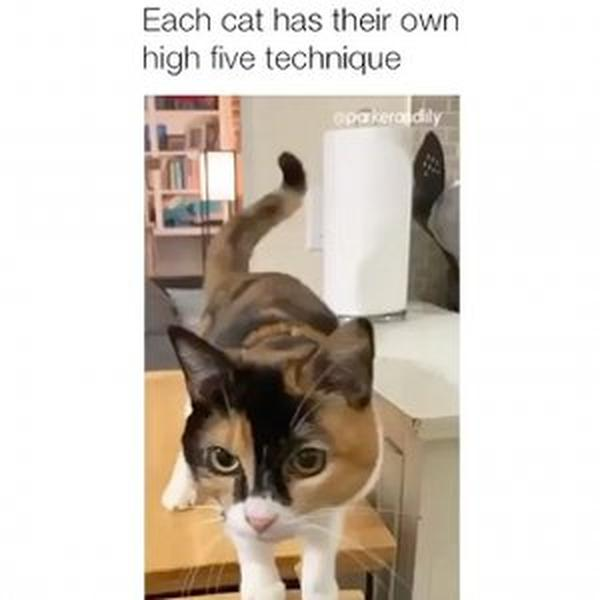michi: (158, 148, 383, 600)
